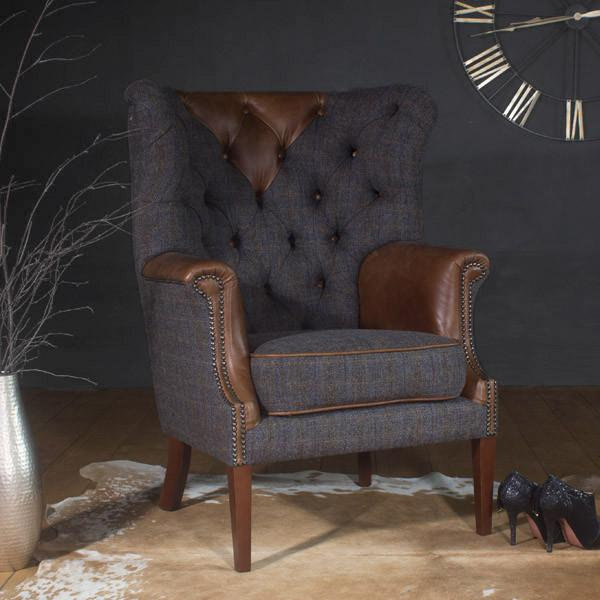chairs: (118, 76, 501, 575)
